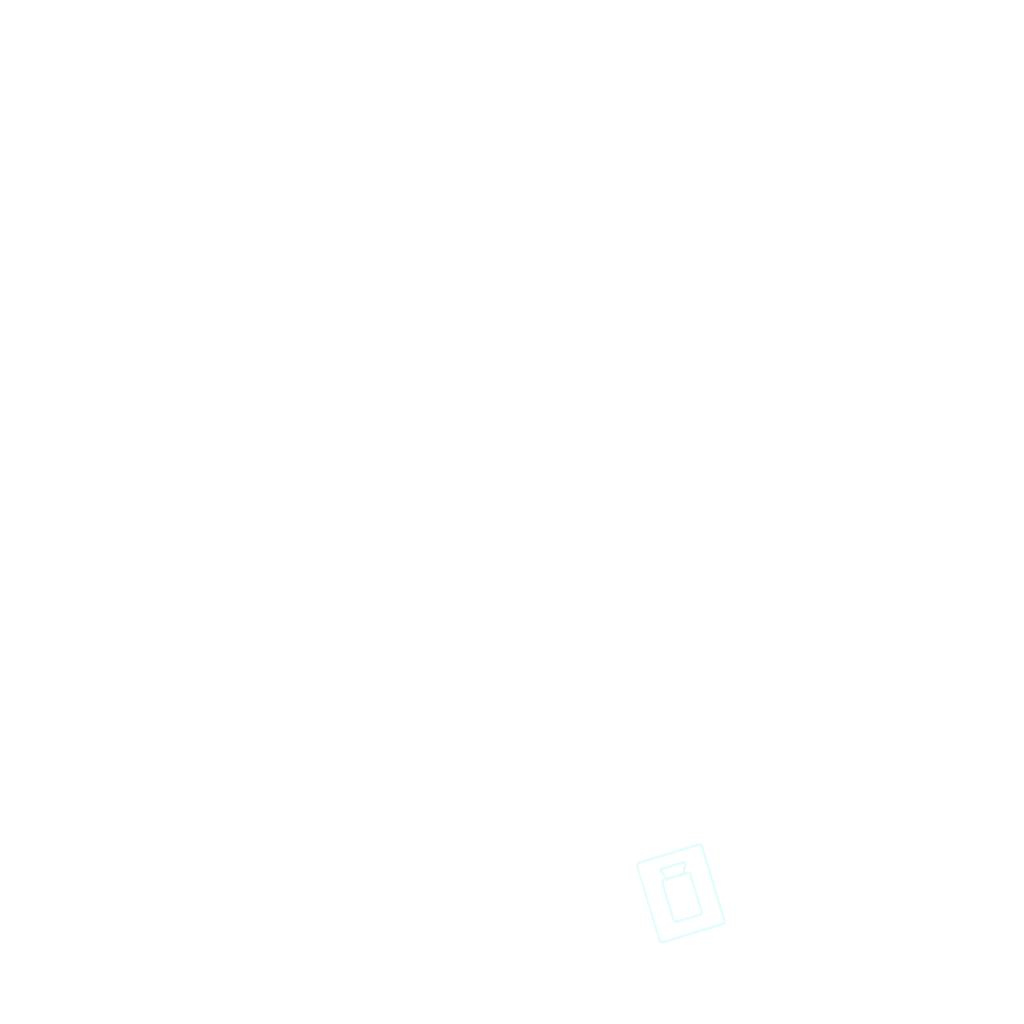KFO_Kamera_mit_Festobjektiv: (631, 838, 732, 949)
